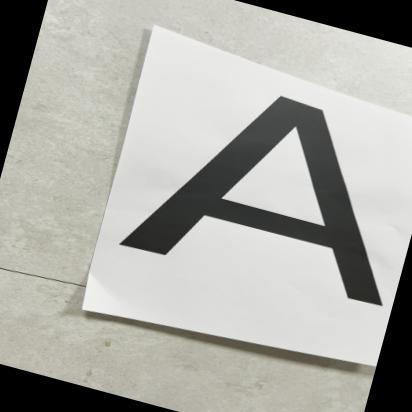seat: (121, 53, 412, 319)
